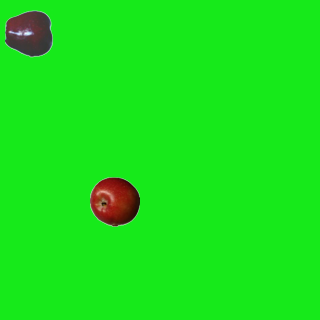Apple Braeburn: (89, 176, 139, 226)
Apple Red Delicious: (4, 8, 54, 58)
